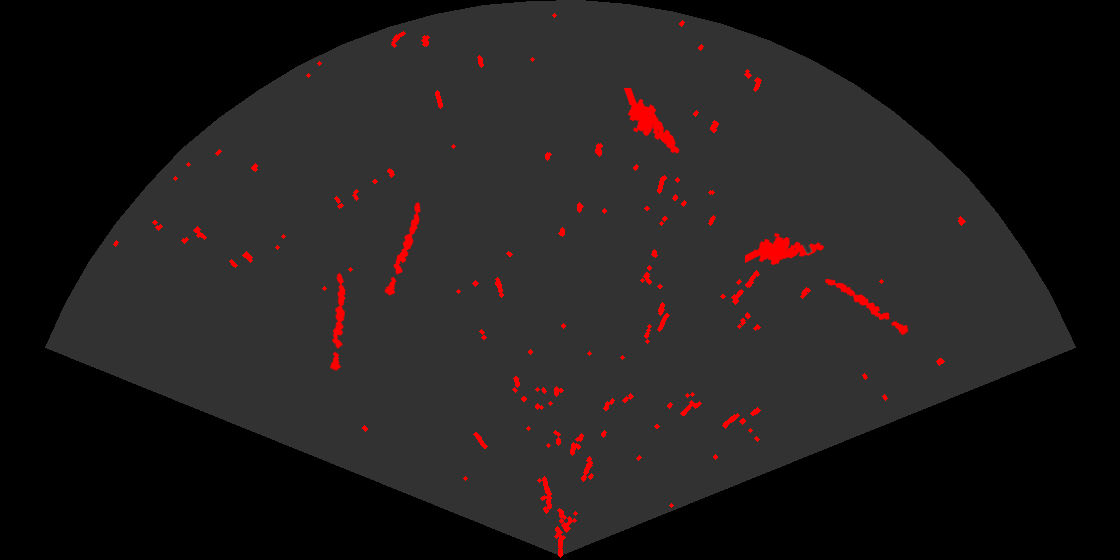chain: (823, 277, 910, 337), (383, 201, 422, 297), (329, 271, 347, 373)
frogman: (622, 88, 681, 155), (745, 231, 826, 267)
